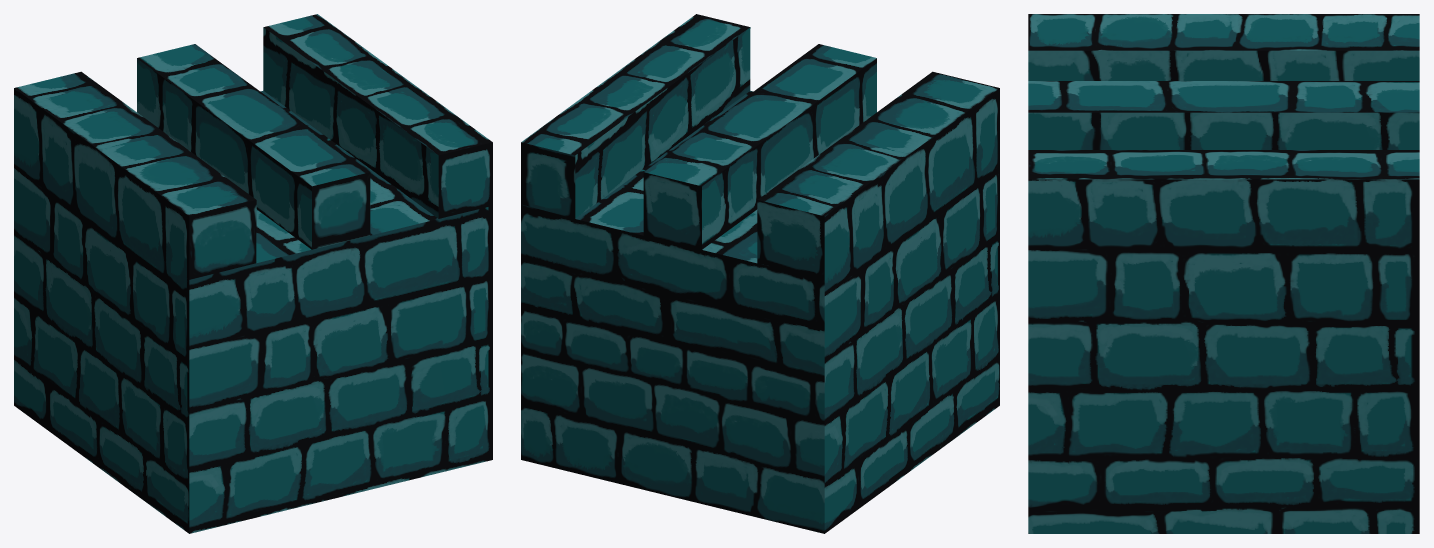
File: SM_Wall.fbx
3 renders of one model, left to right at view 1: azimuth 30°, elevation 25°; view 2: azimuth 150°, elevation 25°; view 3: azimuth 270°, elevation 25°, orthographic. The views are drawn at different scales.
Visible parts, largest first — view 1: pCube8; view 2: pCube8; view 3: pCube8.
Part boxes in pixels (x1=…): pCube8: x1=14, y1=14, x2=492, y2=533; pCube8: x1=521, y1=14, x2=999, y2=533; pCube8: x1=1028, y1=14, x2=1419, y2=533.
Size of the model in its own units: 1 by 1 by 1.
